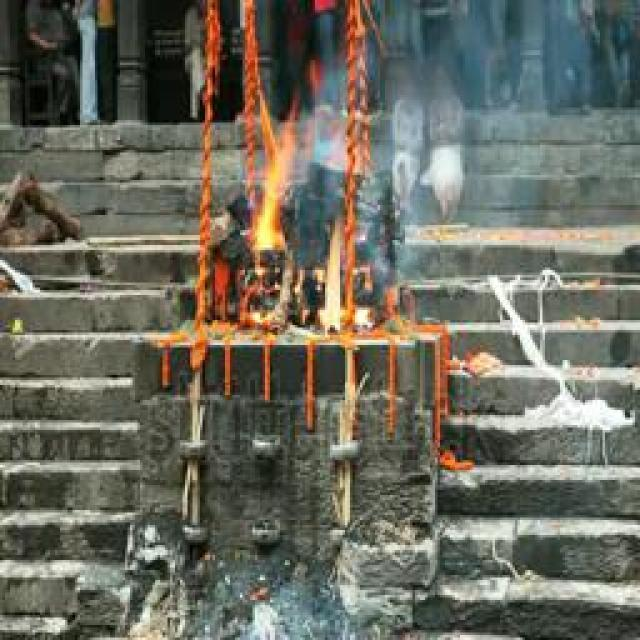Fire: (242, 106, 304, 263), (315, 224, 383, 330)
